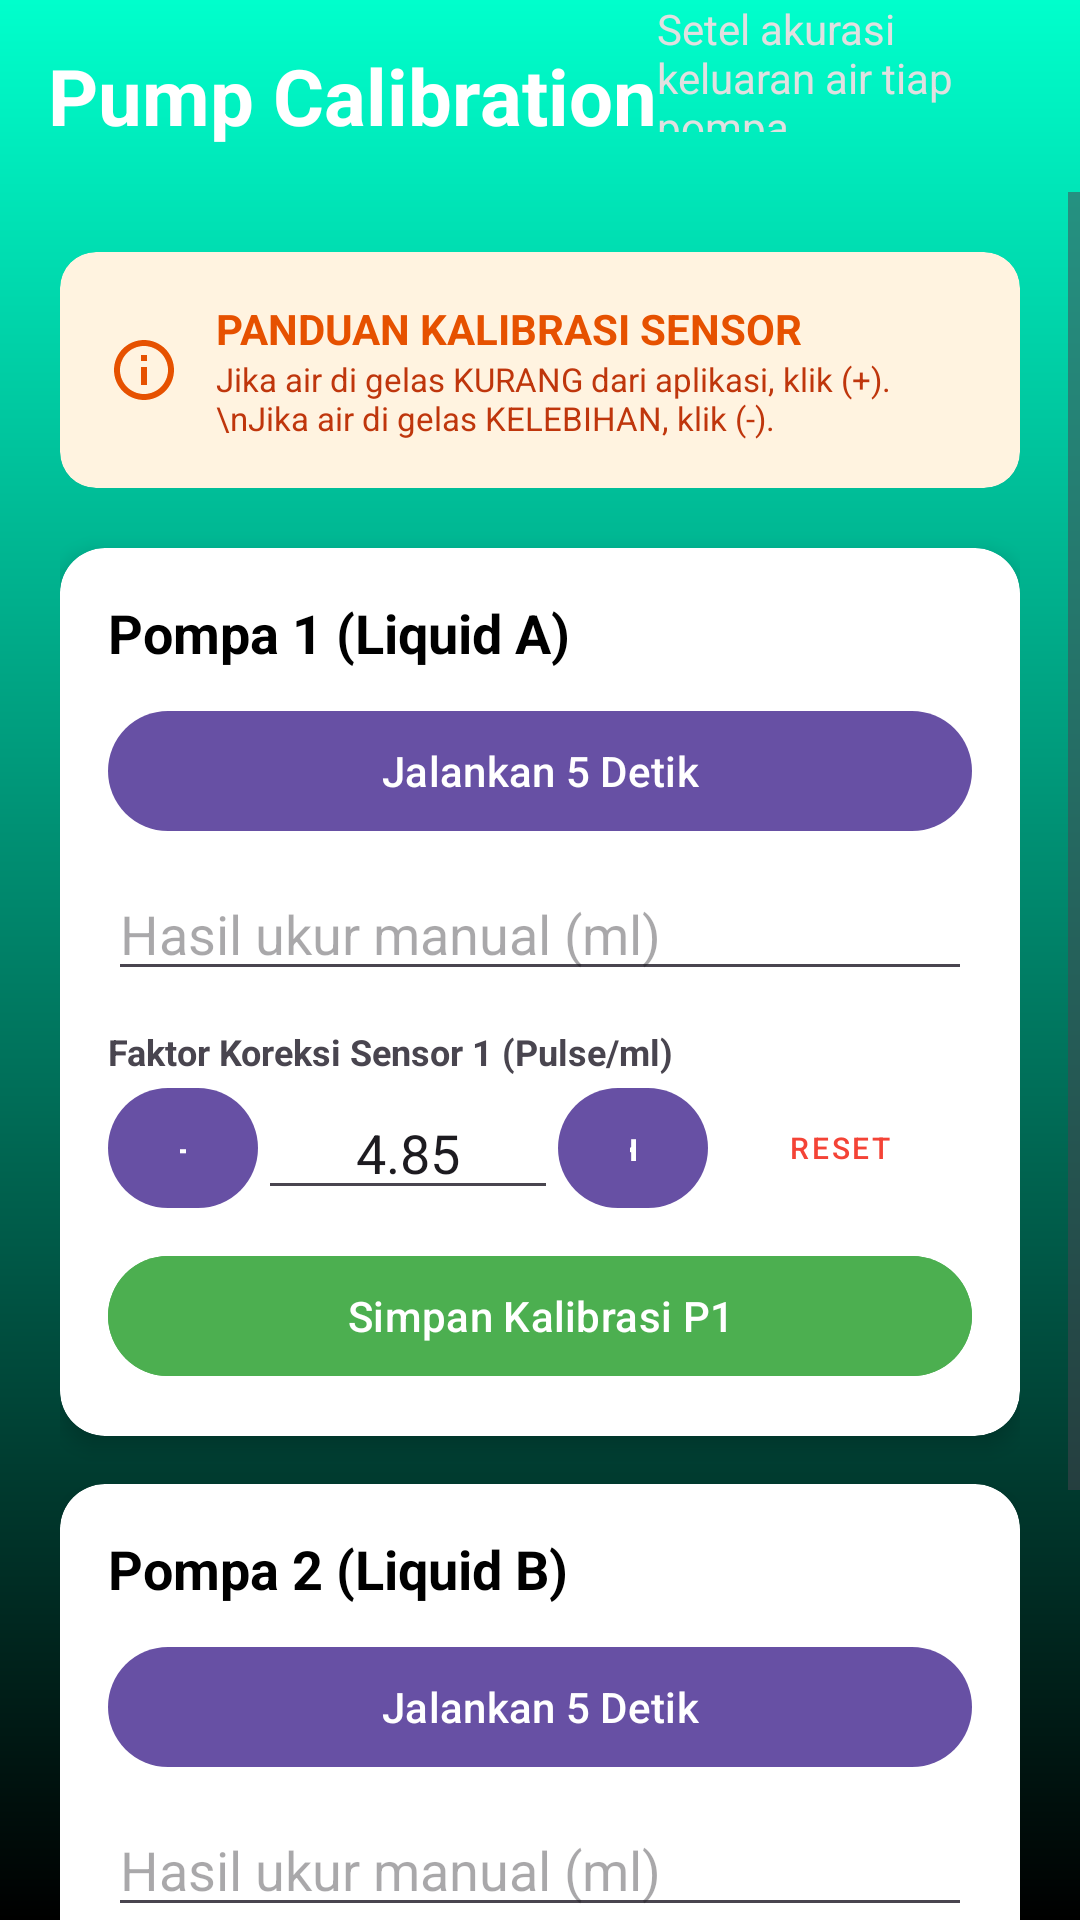

Screen size 1080 x 1920. Icon name, then its center in pixels as [x,y]:
info: [144,370]
